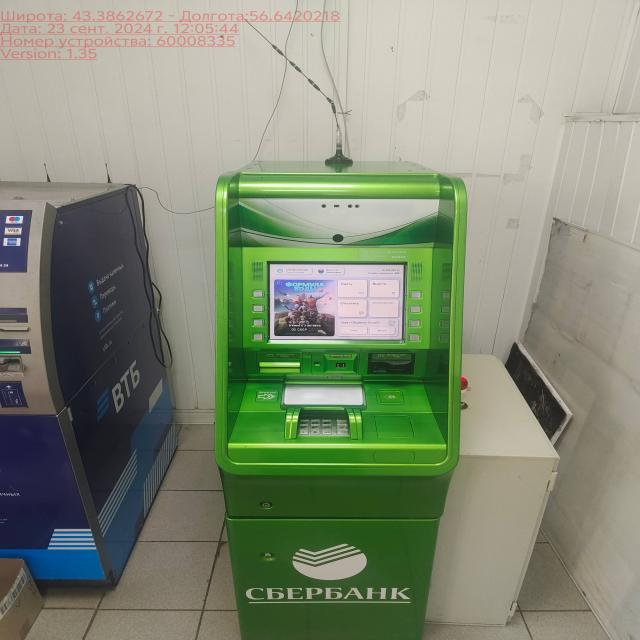bank: (207, 155, 466, 640)
